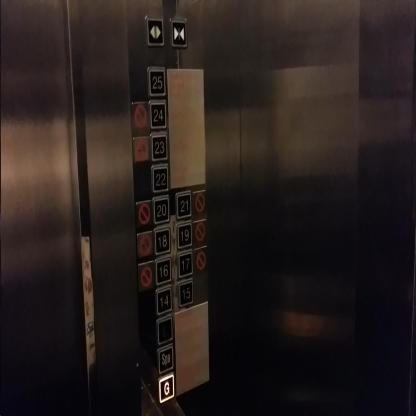14: (155, 286, 172, 314)
15: (177, 279, 194, 307)
16: (154, 254, 172, 284)
17: (176, 249, 193, 278)
18: (152, 224, 172, 255)
19: (175, 222, 193, 248)
20: (151, 194, 170, 224)
21: (174, 190, 192, 218)
22: (150, 162, 169, 193)
23: (150, 130, 168, 161)
24: (148, 97, 167, 129)
25: (147, 65, 166, 97)
G: (158, 373, 175, 405)
SPA: (156, 342, 174, 374)
close: (169, 16, 188, 50)
empty: (156, 314, 173, 343)
open: (145, 15, 165, 48)
